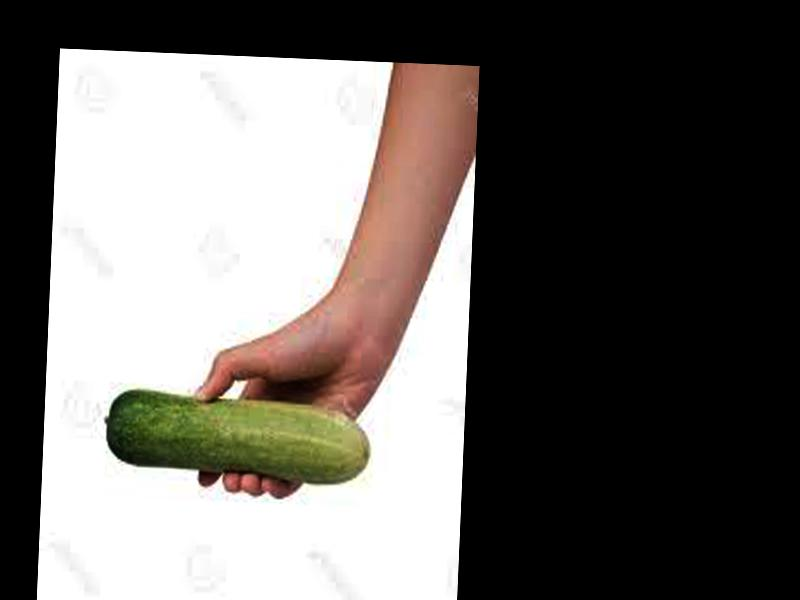Cucumber: (101, 383, 373, 483)
